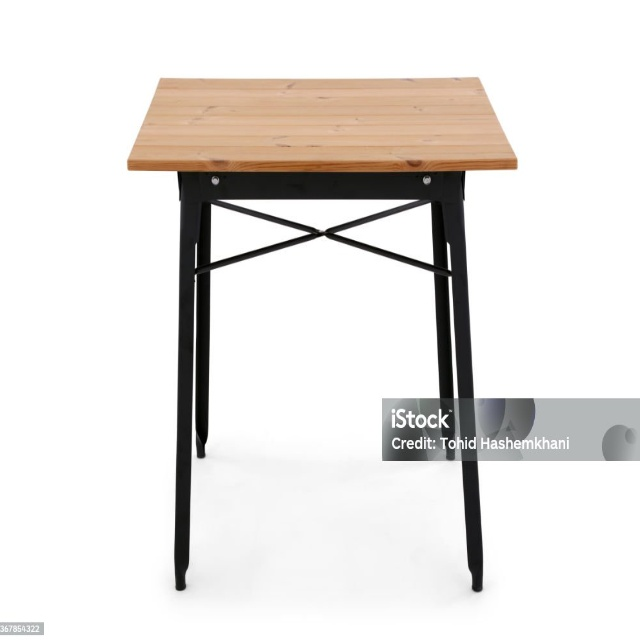obstacle: (130, 70, 519, 601)
